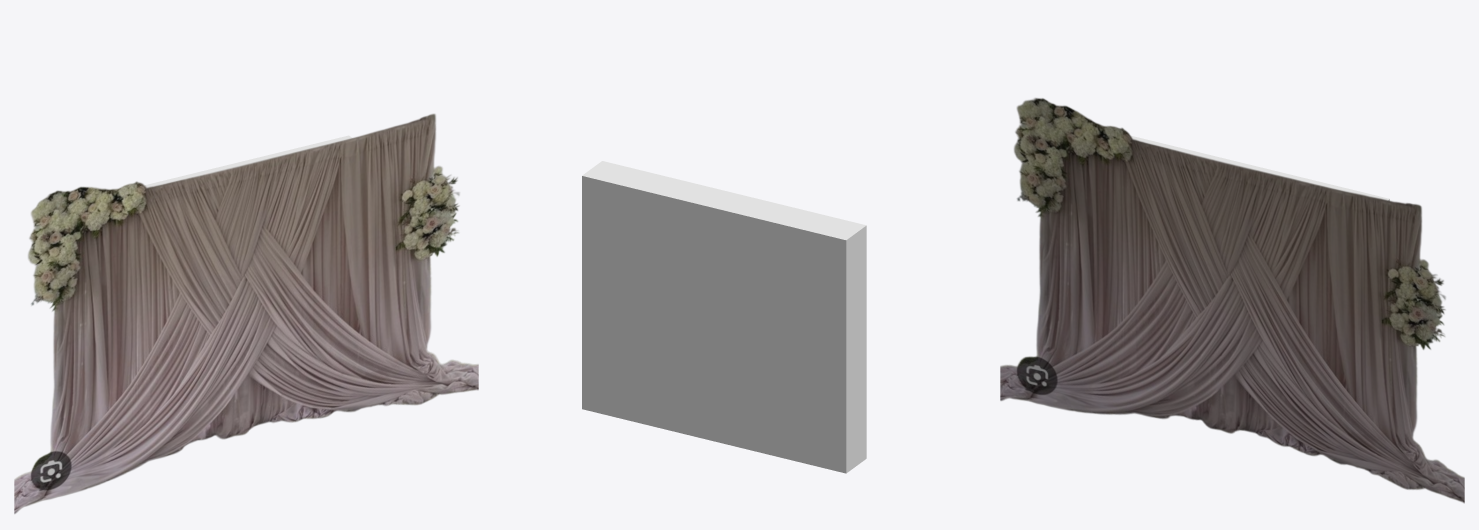
File: simple-wall-decor.glb
3 views of the same model, side by side, from view 1: azimuth 30°, elevation 25°; view 2: azimuth 150°, elevation 25°; view 3: azimuth 330°, elevation 25° (orthographic).
Visible parts, largest first — view 1: Plane, Box; view 2: Box; view 3: Plane, Box.
Boxes of the visible parts, left/top/right/bottom form: Plane: left=14, top=113, right=478, bottom=513; Box: left=144, top=135, right=352, bottom=188; Box: left=582, top=161, right=866, bottom=473; Plane: left=1000, top=98, right=1464, bottom=503; Box: left=1130, top=135, right=1389, bottom=201.
Size of the model in its own units: 6.23 by 4.98 by 0.6411.
2 materials, 1 textured.
